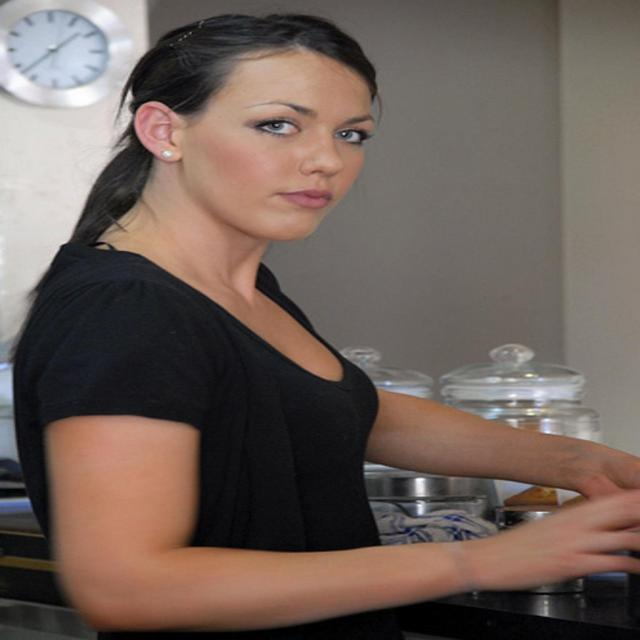Face: (114, 38, 380, 241)
